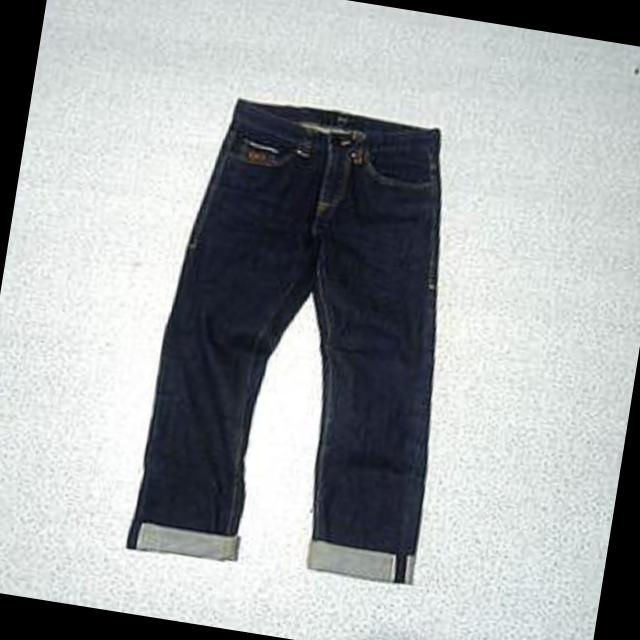TROUSER: (108, 74, 510, 604)
